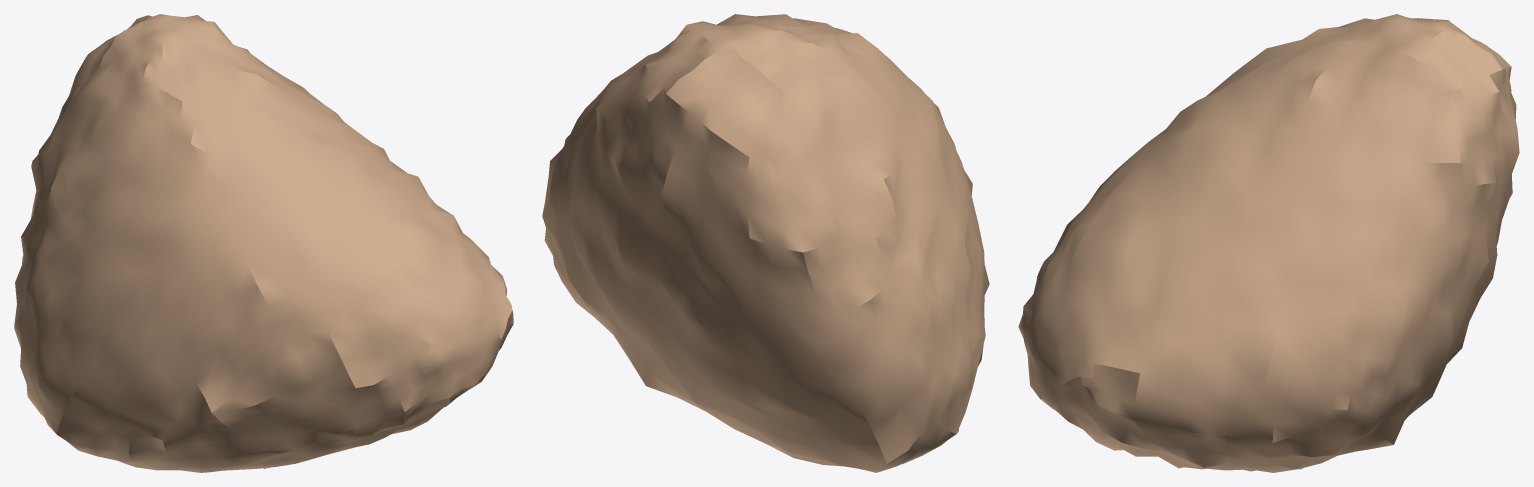
File: DESERT BOULDERS BETTER.fbx
3 renders of one model, left to right at view 1: azimuth 30°, elevation 25°; view 2: azimuth 150°, elevation 25°; view 3: azimuth 270°, elevation 25°, orthographic. The views are drawn at different scales.
Visible parts, largest first — view 1: rock.001; view 2: rock.001; view 3: rock.001.
Boxes of the visible parts, x1,y1,x2,y2 form: rock.001: (14, 14, 513, 472); rock.001: (542, 14, 989, 472); rock.001: (1018, 14, 1519, 472).
Size of the model in its own units: 4163 by 3968 by 4220.
1 material, 1 textured.
